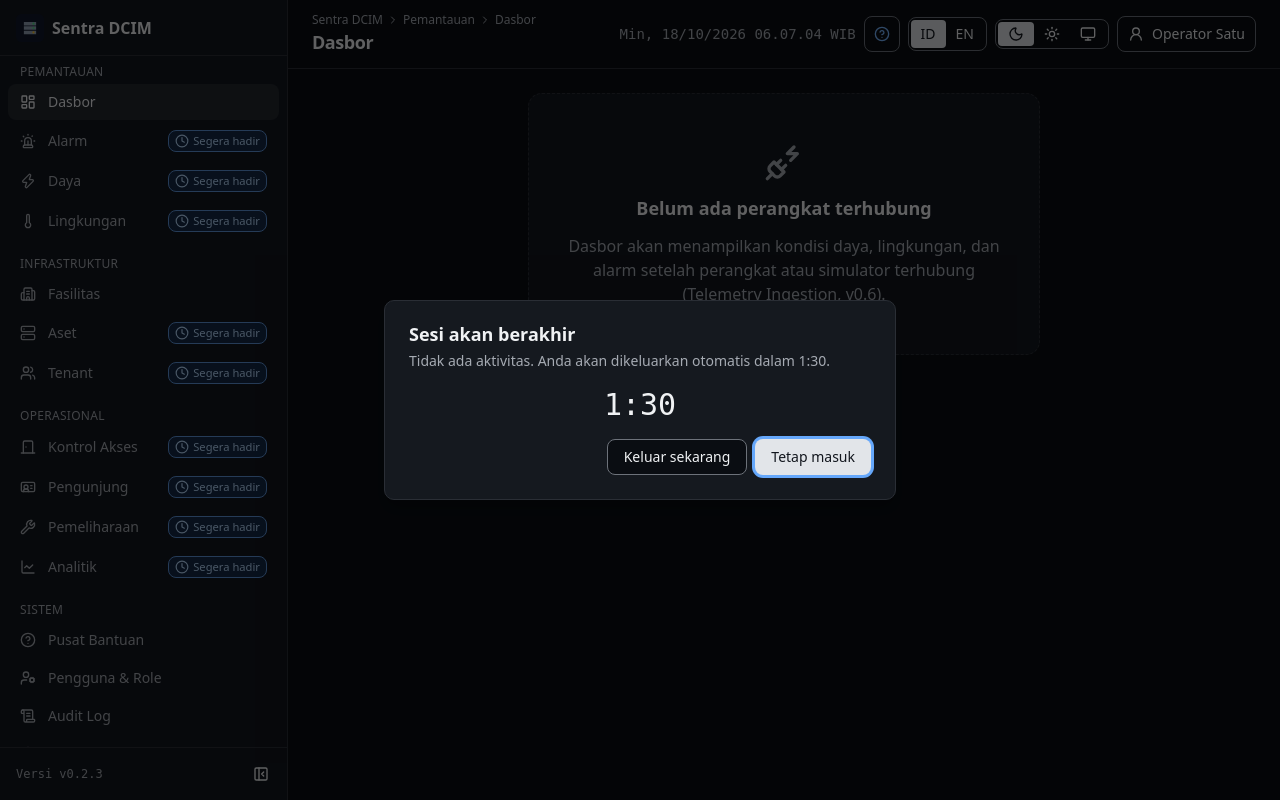
Test: session guard (D-069) › warns 2 minutes before the idle limit and 'Stay signed in' sends the activity signal
The image size is (1280, 800).
Check: the dialog with test id "session-warning" shows "Sesi akan berakhir", box top-left (409, 322), bottom-right (576, 346)
Check: the text with test id "session-countdown" reads "1:30", box top-left (604, 387), bottom-right (676, 422)
What coordinates should you click on to do the following:
click the button with test id "session-stay"
I would click on:
 (813, 457)
Its box is top-left (755, 439), bottom-right (871, 475).
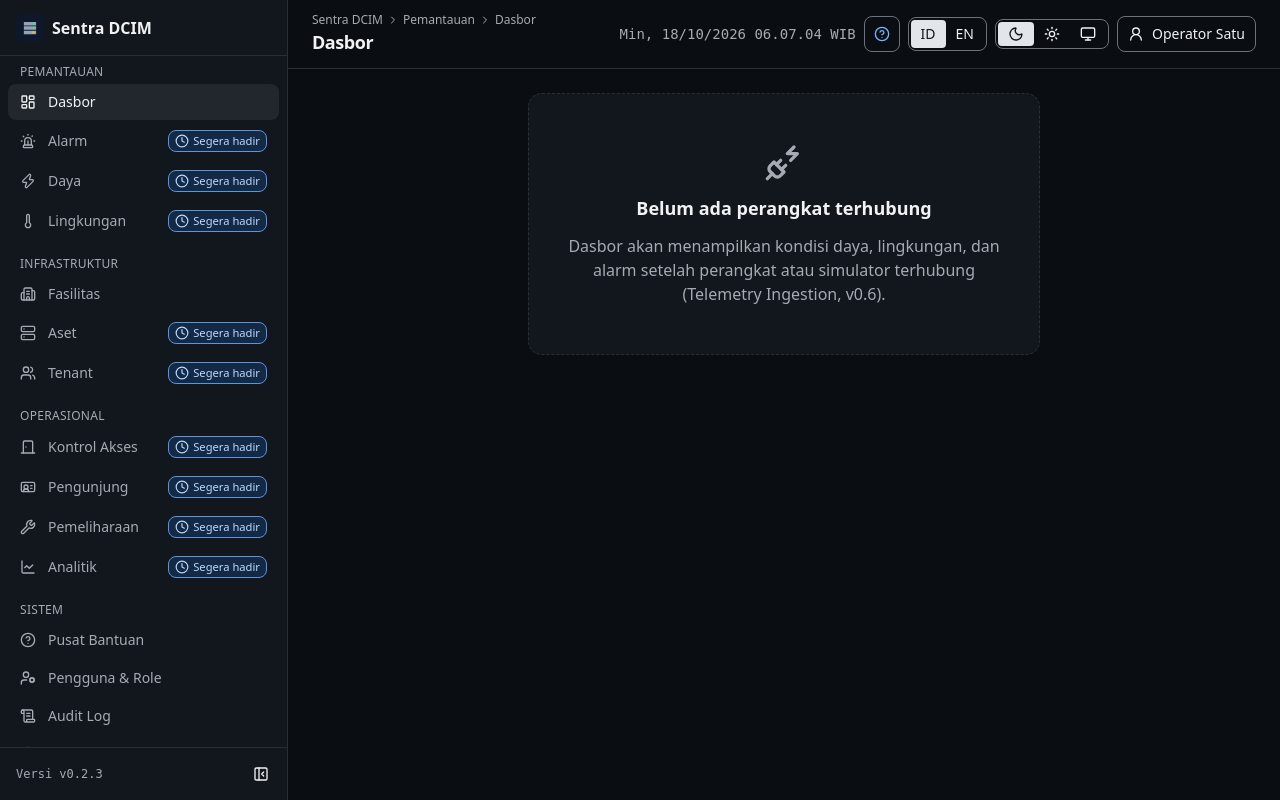
Check: the dialog with test id "session-warning" is gone
